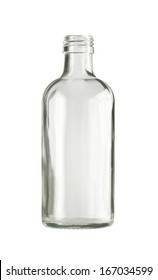glass_bottle: (39, 30, 117, 233)
